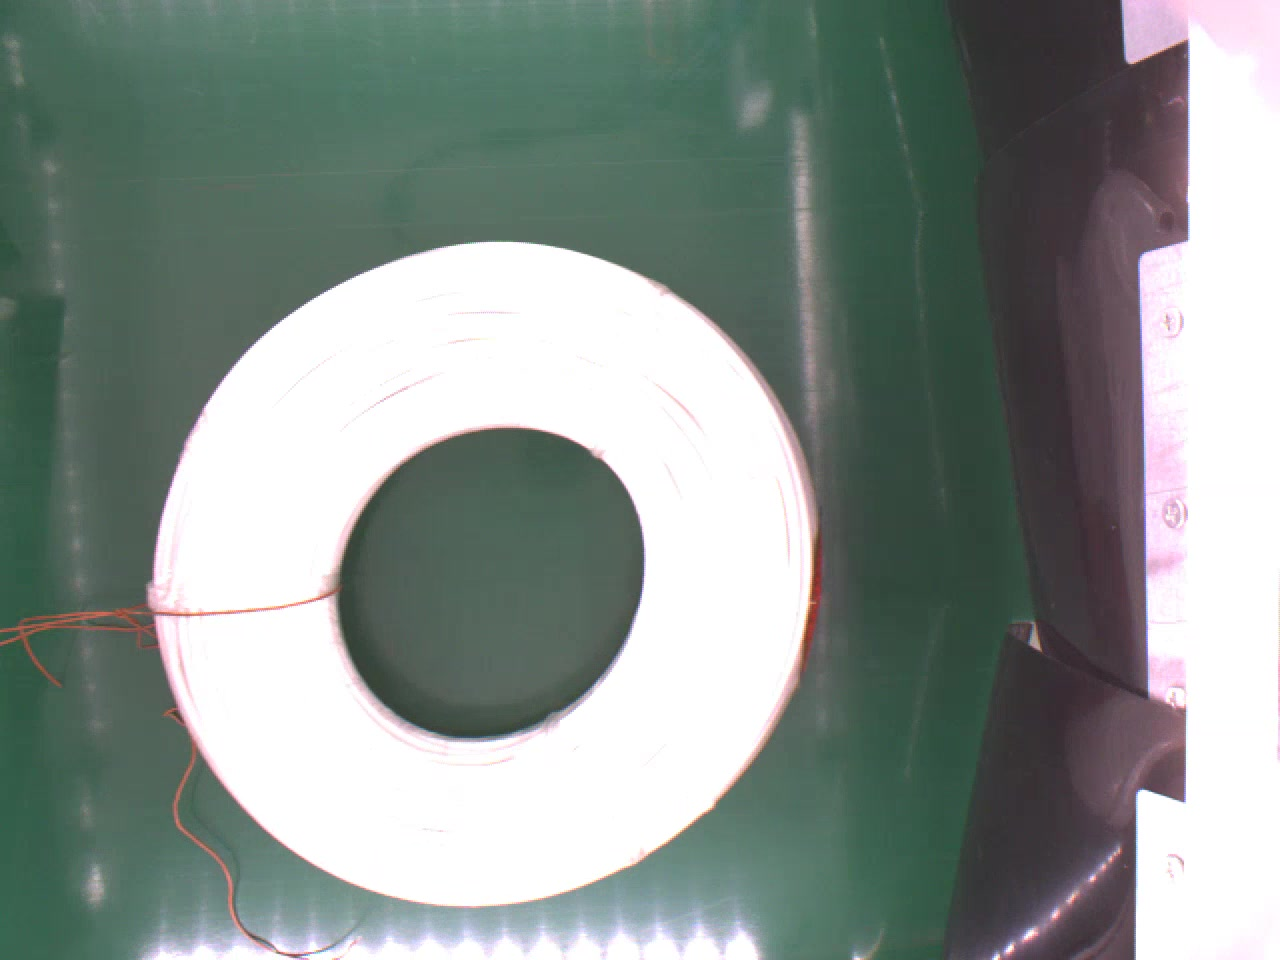white: (149, 236, 827, 907)
